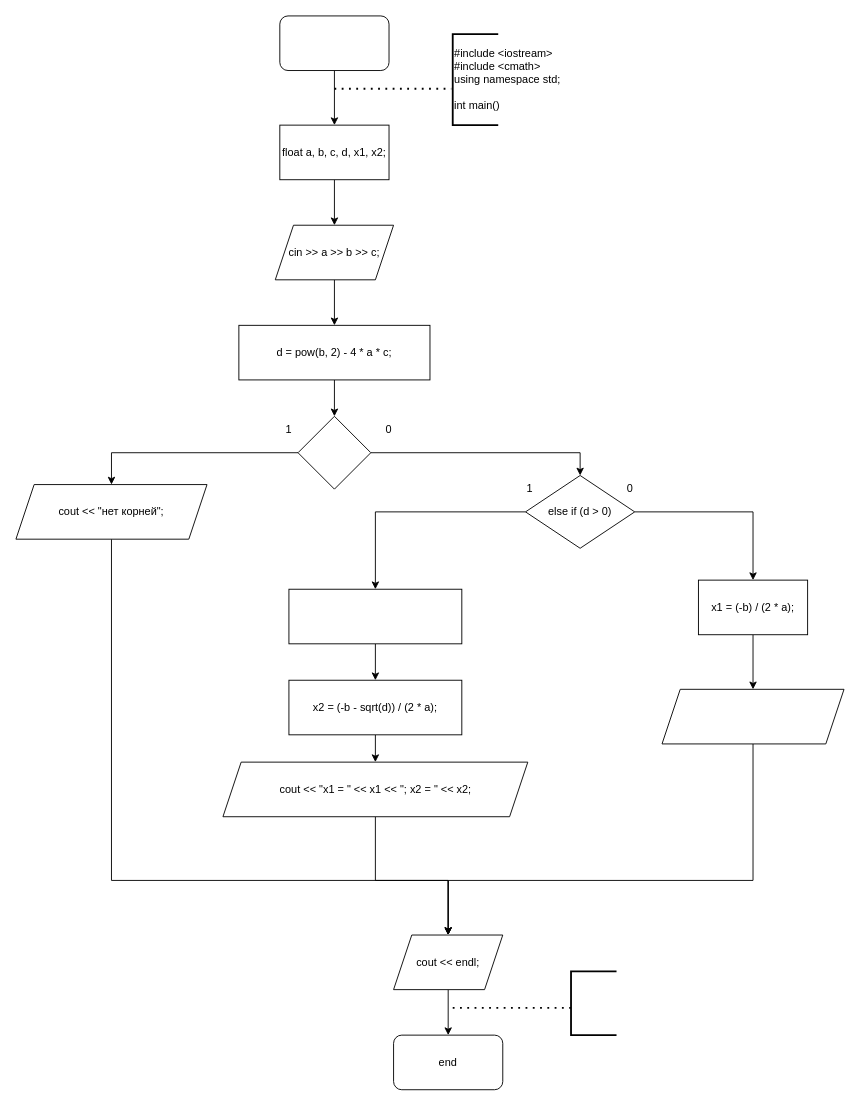
Some shapes in this 860 by 1106 pixel diagram are drawn without their labels. The centre of each missing label's shape, as x and y in pixels:
cout << "x = " << x1;: the point at 752,716
if (d < 0): the point at 334,452
return 0;: the point at 593,1003
start: the point at 334,43
x1 = (-b + sqrt(d)) / (2 * a);: the point at 375,616
